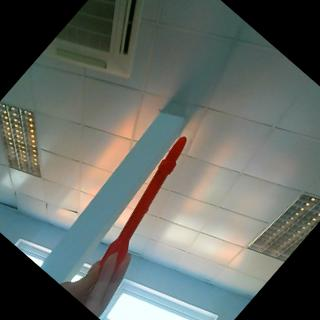Rocket: (96, 133, 210, 258)
